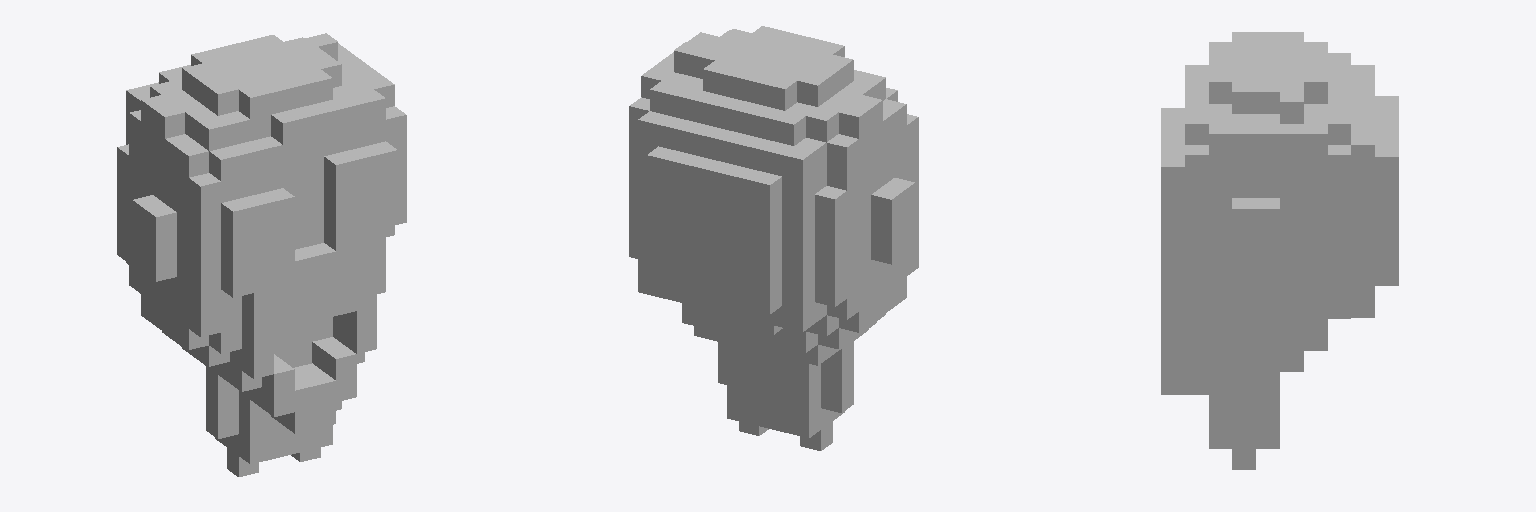
Rendered from zombie.obj.
3 renders of one model, left to right at view 1: azimuth 30°, elevation 25°; view 2: azimuth 150°, elevation 25°; view 3: azimuth 270°, elevation 25°, orthographic.
Size of the model in its own units: 12 by 18 by 10.